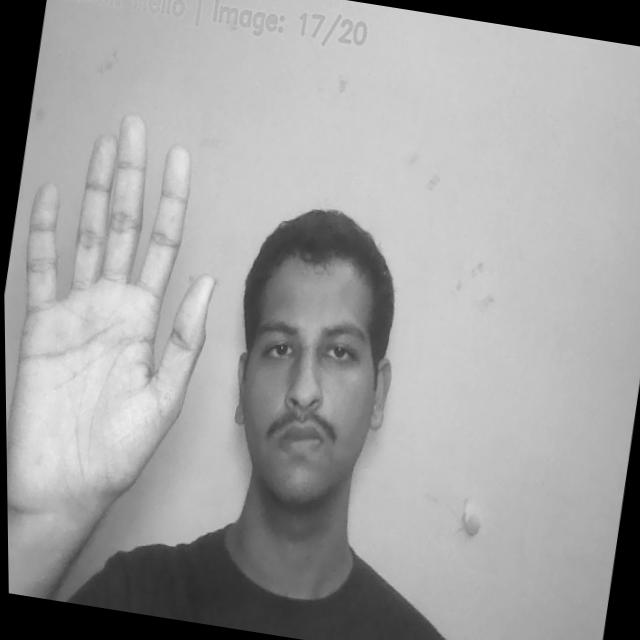Hello: (1, 105, 255, 534)
